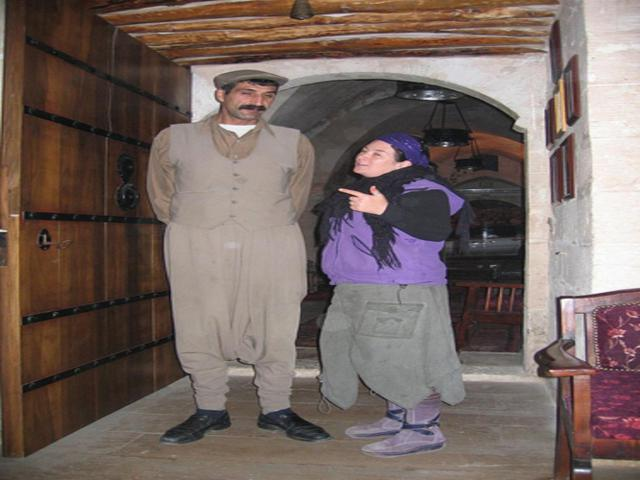Door-handle: (34, 230, 75, 252)
